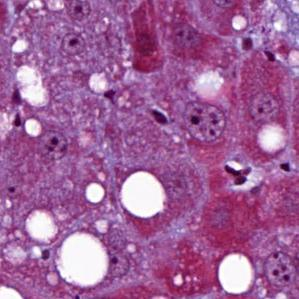inflammation: (220, 158, 255, 191), (232, 34, 262, 58), (147, 102, 172, 127)
